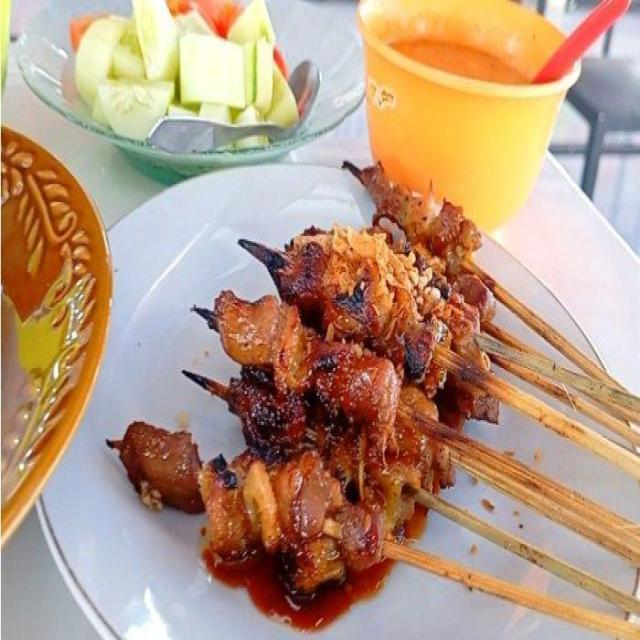Sate: (118, 169, 640, 640)
